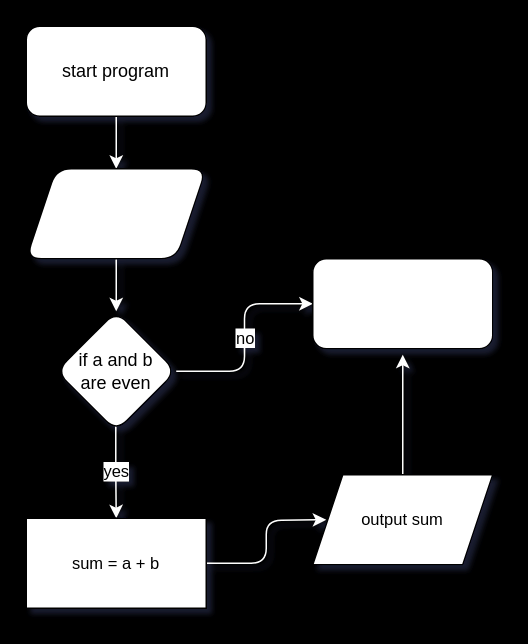
Image size: 528x644. Some labels were removed from this diagram. The shapes that lost their labels are listed below. From the top down, each one's centre as x and y in pixels, then its label:
At (115,213): "input a and b".
At (402,303): "end program".
